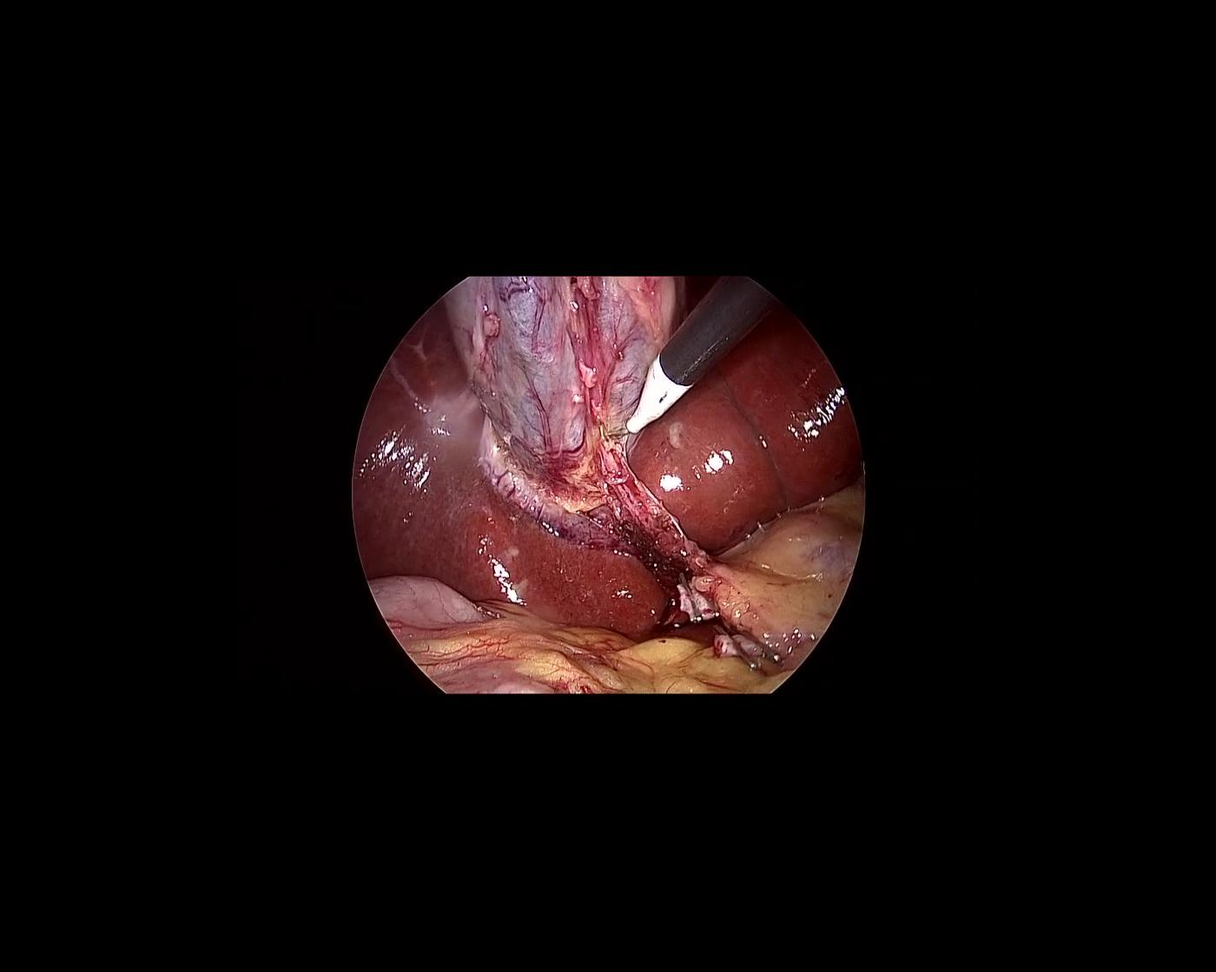Cautery: (600, 260, 774, 440)
Gallbladder: (439, 272, 686, 515)
Liver: (262, 304, 684, 751), (606, 300, 896, 586)
